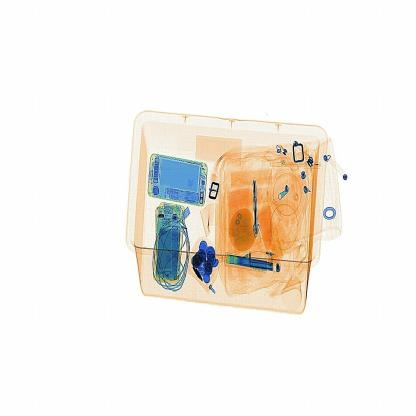knife: (247, 182, 260, 242)
